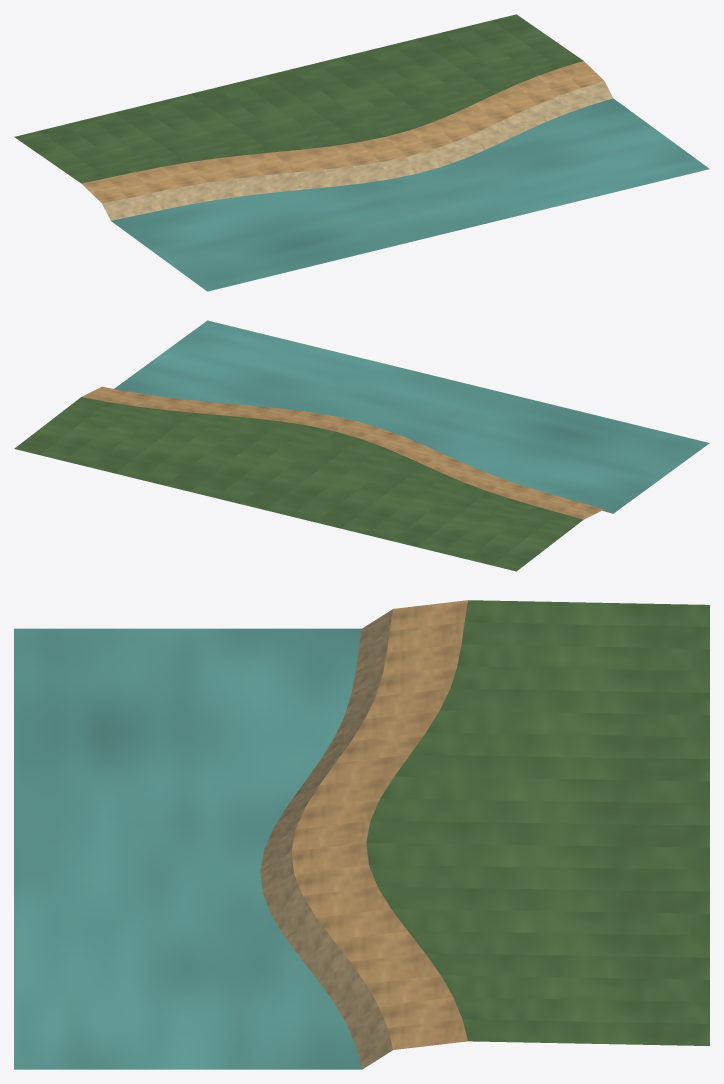
The model's file is lake_edge_set_02.fbx.
3 views of the same model, one above another, from view 1: azimuth 30°, elevation 25°; view 2: azimuth 150°, elevation 25°; view 3: azimuth 270°, elevation 25° (orthographic). The views are drawn at different scales.
Parts seen in each view (by area): view 1: lake_edge_set_02; view 2: lake_edge_set_02; view 3: lake_edge_set_02.
Part boxes in pixels (bbox=[...]): lake_edge_set_02: bbox=[14, 14, 709, 291]; lake_edge_set_02: bbox=[14, 320, 709, 571]; lake_edge_set_02: bbox=[14, 600, 709, 1069].
Size of the model in its own units: 1200 by 36 by 800.
2 materials, 2 textured.
